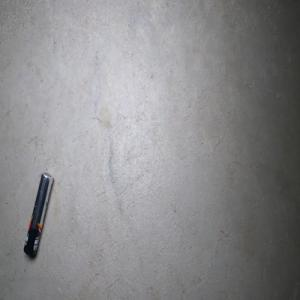Battery: (23, 171, 53, 257)
